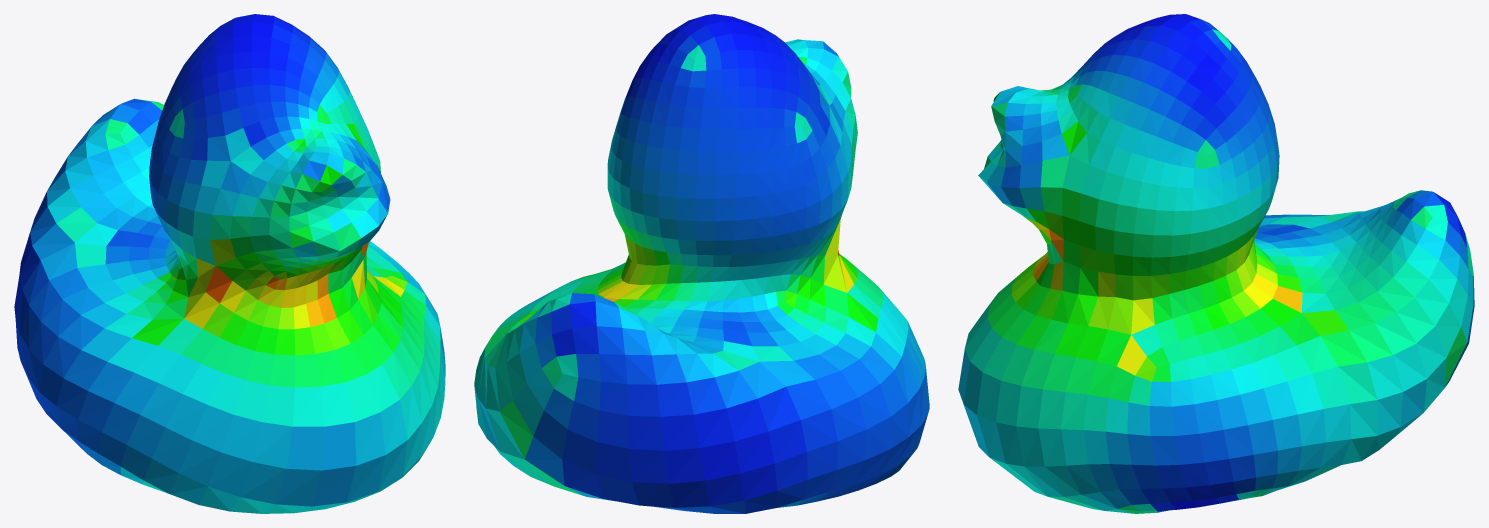
Rendered from duck_quad5_opt_quality.obj.
3 views of the same model, side by side, from view 1: azimuth 30°, elevation 25°; view 2: azimuth 150°, elevation 25°; view 3: azimuth 270°, elevation 25° (orthographic). The views are drawn at different scales.
Bounding box in the file's own units: 69.52 × 77.42 × 82.11.
